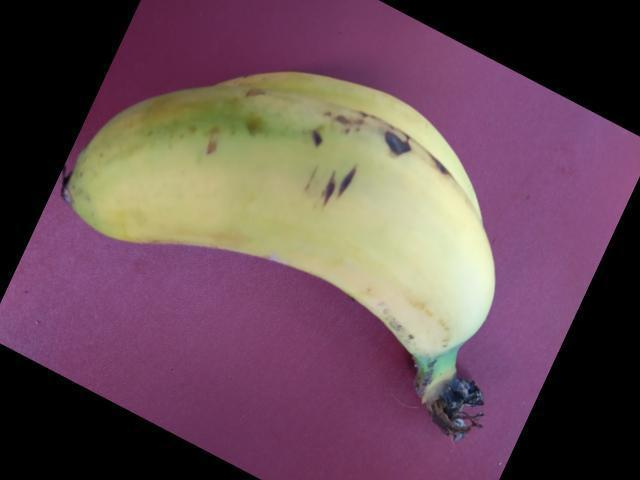ripe: (76, 80, 518, 380)
